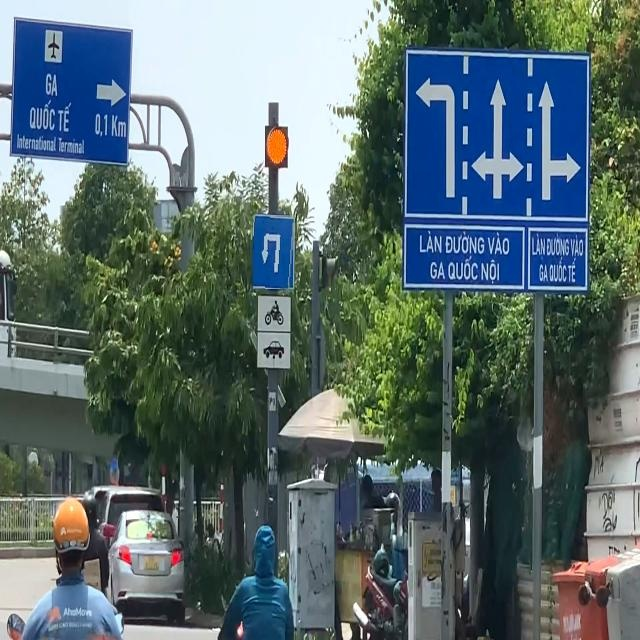bien_chi_dan: (253, 215, 295, 289)
